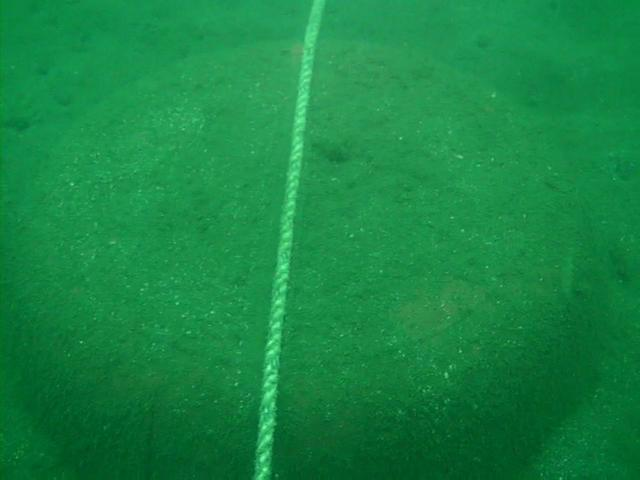rope: (251, 0, 328, 480)
